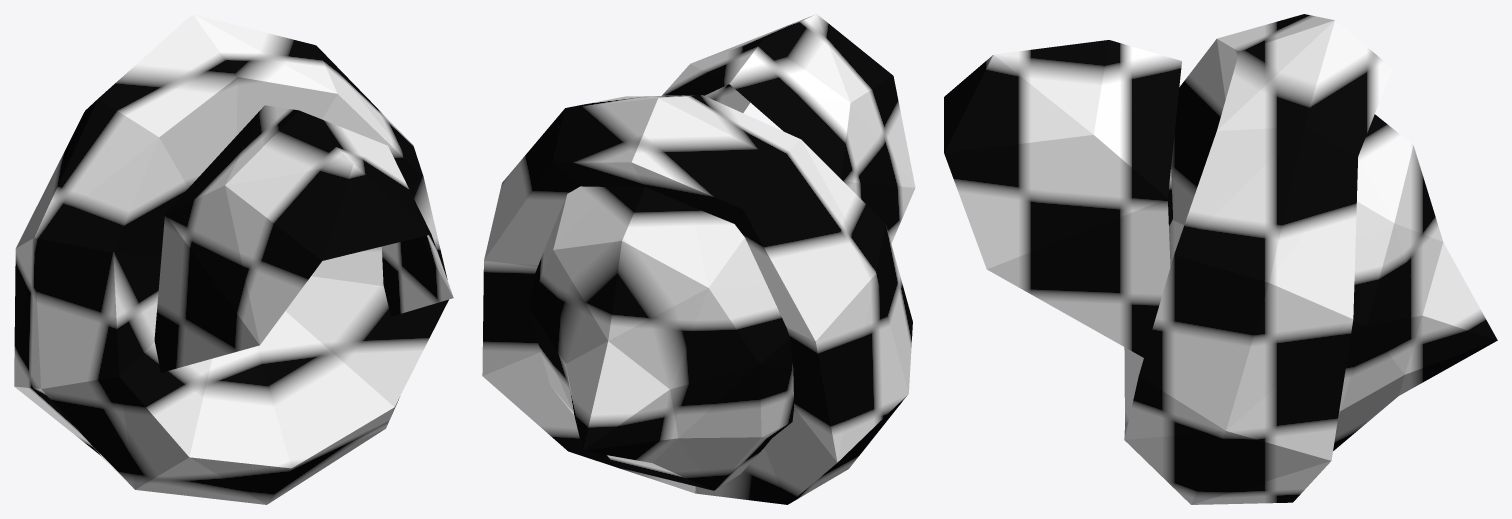
File: initarhl14.dae
3 renders of one model, left to right at view 1: azimuth 30°, elevation 25°; view 2: azimuth 150°, elevation 25°; view 3: azimuth 270°, elevation 25°, orthographic. The views are drawn at different scales.
Visible parts, largest first — view 1: armor; view 2: armor; view 3: armor.
Part boxes in pixels (<box>): armor: <box>14,14,453,504</box>; armor: <box>482,14,915,504</box>; armor: <box>944,14,1497,504</box>.
Bounding box in the file's own units: 1.07 × 1.2 × 1.1.
Materials: 1 (1 with a texture image).
